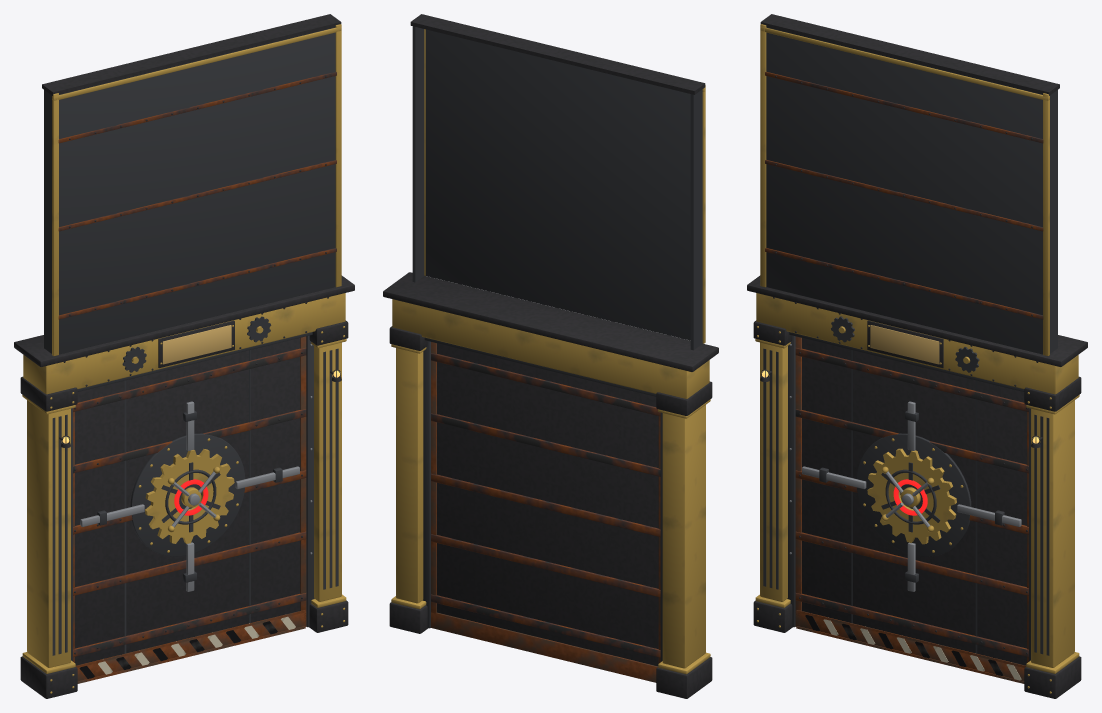
File: era_door.glb
3 views of the same model, side by side, from view 1: azimuth 30°, elevation 25°; view 2: azimuth 150°, elevation 25°; view 3: azimuth 330°, elevation 25° (orthographic).
Parts seen in each view (by area): view 1: era_door_darkMetal_m, panel_iron_m, era_door_brass_m, era_door_iron_m, panel_rustyIron_m, panel_darkMetal_m, panel_rust_m, panel_brass_m, era_door_rustyIron_m, panel_steel_m, plaque, panel_paintBlack_m (+1 smaller); view 2: era_door_darkMetal_m, panel_iron_m, era_door_brass_m, era_door_iron_m, panel_rustyIron_m, panel_rust_m; view 3: era_door_darkMetal_m, panel_iron_m, era_door_brass_m, era_door_iron_m, panel_rustyIron_m, panel_darkMetal_m, panel_rust_m, panel_brass_m, era_door_rustyIron_m, panel_steel_m, plaque, panel_paintCream_m (+1 smaller).
Boxes of the visible parts, bbox=[...] form: era_door_darkMetal_m: bbox=[44, 27, 338, 661]; panel_iron_m: bbox=[74, 338, 302, 665]; era_door_brass_m: bbox=[22, 24, 346, 693]; era_door_iron_m: bbox=[14, 14, 354, 698]; panel_rustyIron_m: bbox=[73, 348, 306, 657]; panel_darkMetal_m: bbox=[97, 350, 282, 653]; panel_rust_m: bbox=[73, 336, 306, 683]; panel_brass_m: bbox=[138, 438, 238, 552]; era_door_rustyIron_m: bbox=[58, 71, 336, 319]; panel_steel_m: bbox=[80, 401, 299, 591]; plaque: bbox=[162, 325, 231, 364]; panel_paintBlack_m: bbox=[79, 621, 277, 678]; era_door_darkMetal_m: bbox=[412, 26, 702, 661]; panel_iron_m: bbox=[437, 343, 658, 666]; era_door_brass_m: bbox=[391, 29, 710, 674]; era_door_iron_m: bbox=[383, 14, 718, 698]; panel_rustyIron_m: bbox=[431, 353, 660, 657]; panel_rust_m: bbox=[431, 342, 660, 682]; era_door_darkMetal_m: bbox=[763, 27, 1057, 661]; panel_iron_m: bbox=[799, 338, 1027, 665]; era_door_brass_m: bbox=[755, 24, 1079, 693]; era_door_iron_m: bbox=[747, 14, 1087, 698]; panel_rustyIron_m: bbox=[795, 348, 1028, 657]; panel_darkMetal_m: bbox=[819, 350, 1004, 653]; panel_rust_m: bbox=[795, 336, 1028, 683]; panel_brass_m: bbox=[863, 438, 963, 552]; era_door_rustyIron_m: bbox=[765, 71, 1043, 319]; panel_steel_m: bbox=[802, 401, 1021, 591]; plaque: bbox=[870, 325, 939, 364]; panel_paintCream_m: bbox=[823, 617, 1021, 680].
Bounding box in the file's own units: 4.3 × 7.92 × 0.7802.
11 materials, 6 textured.
